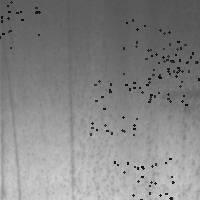pitted_surface: (30, 74, 200, 200), (123, 19, 181, 78), (90, 80, 150, 134), (148, 44, 200, 104), (114, 158, 172, 200), (0, 0, 38, 49)
